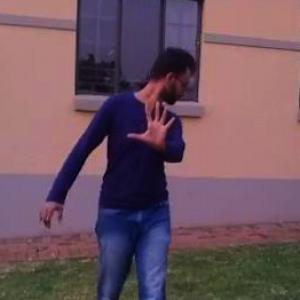follow_hand: (126, 97, 181, 151)
